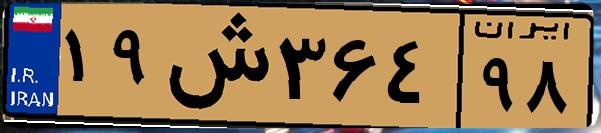1: (57, 26, 110, 100)
3: (270, 28, 330, 110)
4: (385, 28, 445, 110)
6: (330, 28, 385, 110)
8: (525, 38, 570, 115)
9: (475, 38, 525, 113), (110, 28, 158, 98)
ش: (158, 12, 270, 120)
